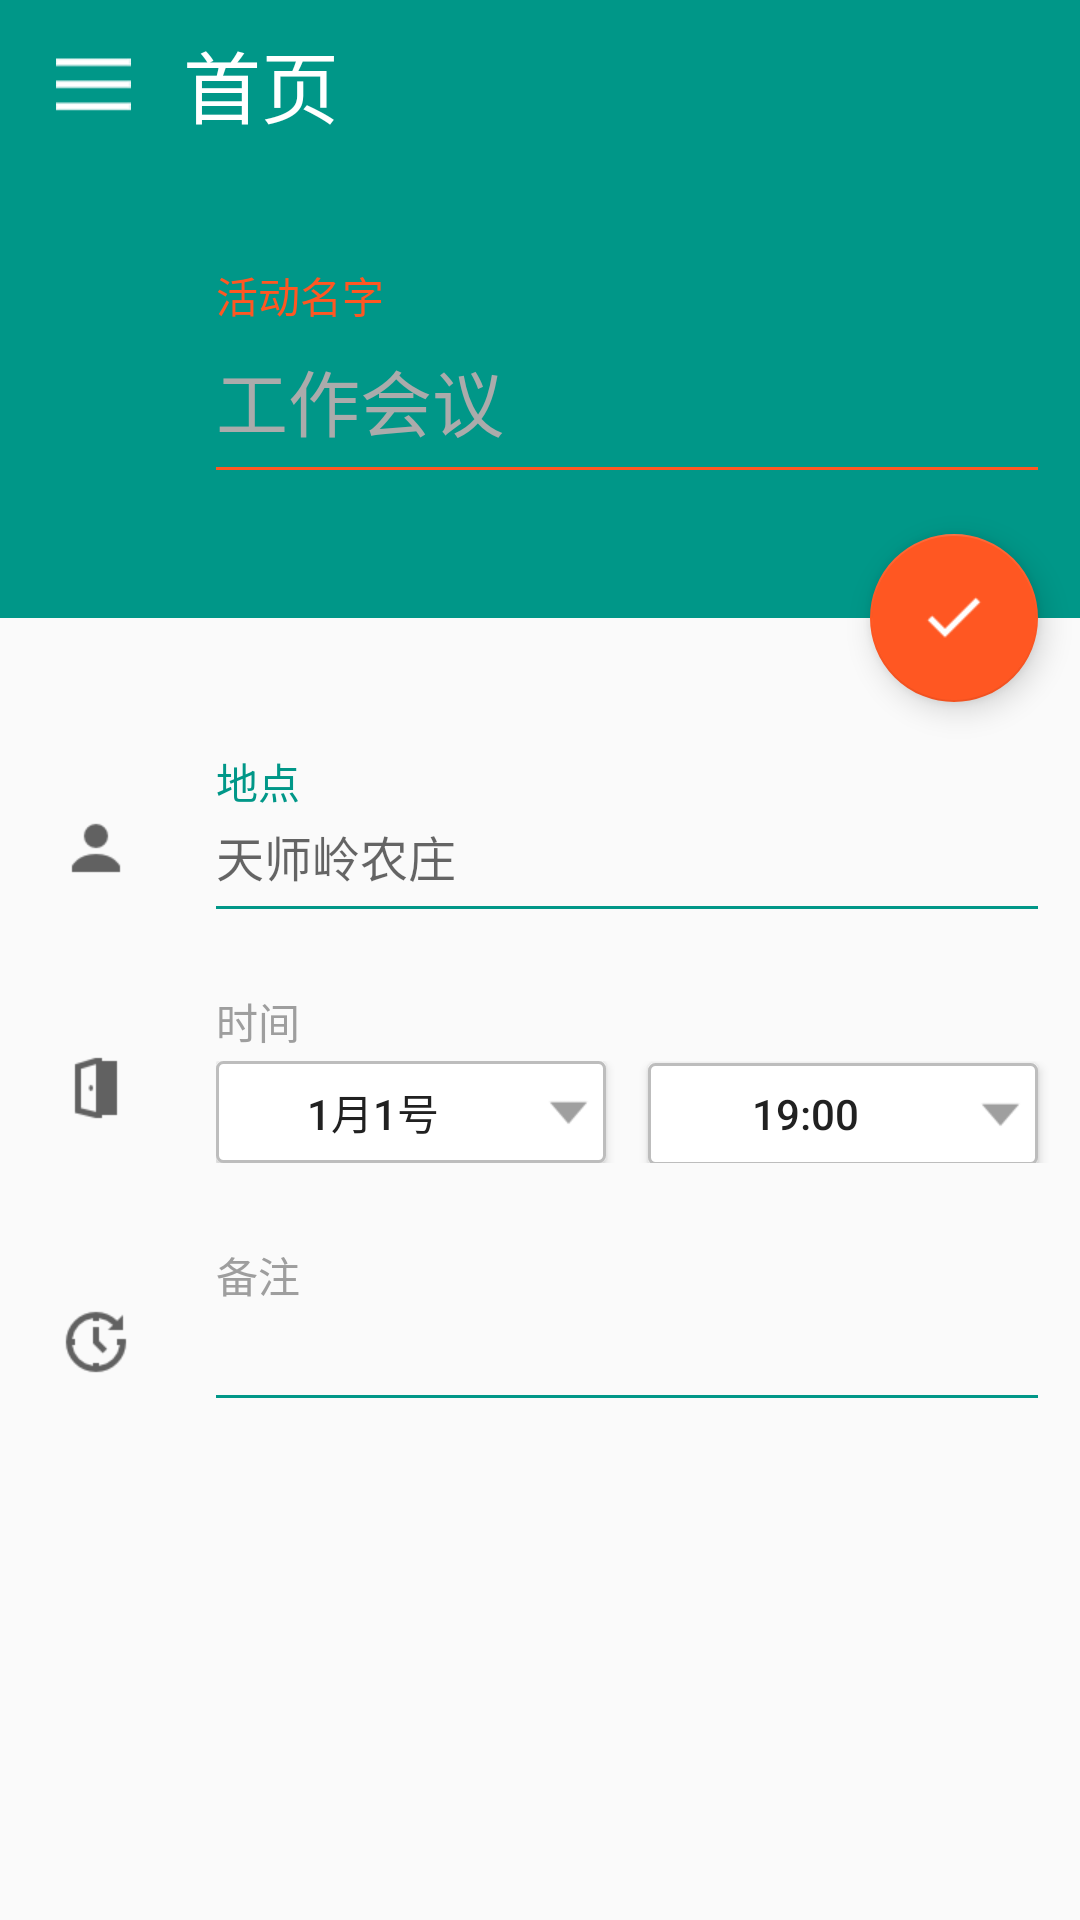

Screen size 1080px x 1920px. Icon name, then its center in pixels as [x,y]:
classroom: [96,1088]
finish: [954,618]
menu: [93,84]
teacher: [96,848]
time: [96,1342]
